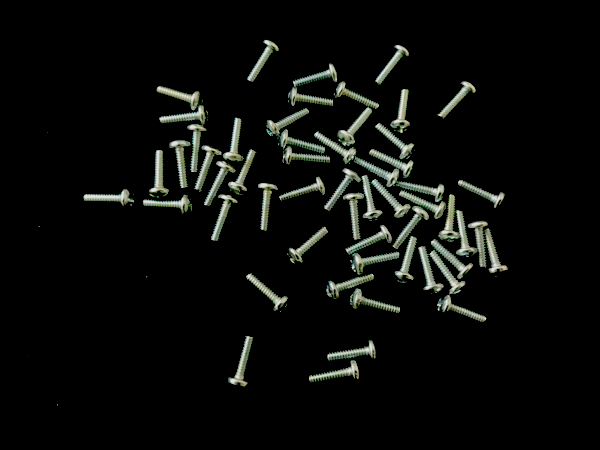shortscrew: (245, 273, 291, 315), (431, 239, 475, 280), (436, 81, 477, 123), (392, 206, 430, 251), (430, 252, 468, 297), (246, 40, 283, 86), (324, 168, 361, 214), (286, 227, 329, 266), (374, 123, 418, 161), (314, 130, 359, 167), (368, 148, 416, 182), (350, 288, 402, 319), (375, 45, 412, 88), (227, 336, 256, 390), (336, 107, 374, 148), (346, 225, 393, 258), (227, 149, 259, 197), (437, 295, 488, 325), (203, 161, 237, 206), (327, 273, 377, 303), (266, 108, 312, 140), (458, 180, 507, 210), (400, 190, 447, 221), (417, 247, 445, 299), (355, 157, 400, 189), (210, 195, 239, 243), (334, 81, 380, 111), (309, 360, 361, 386), (194, 145, 222, 193), (392, 237, 420, 285), (484, 228, 510, 278), (169, 140, 195, 189), (293, 62, 341, 88), (351, 250, 400, 275), (328, 339, 379, 363), (156, 85, 203, 111), (396, 180, 446, 204), (437, 194, 461, 243), (148, 150, 171, 200), (84, 188, 136, 210), (143, 195, 194, 217), (361, 175, 384, 222), (223, 118, 246, 165), (279, 130, 324, 154), (468, 220, 490, 268), (456, 211, 478, 259), (282, 146, 332, 167), (258, 183, 279, 232), (187, 124, 208, 173), (289, 86, 333, 109), (390, 89, 412, 134), (342, 192, 362, 240)
